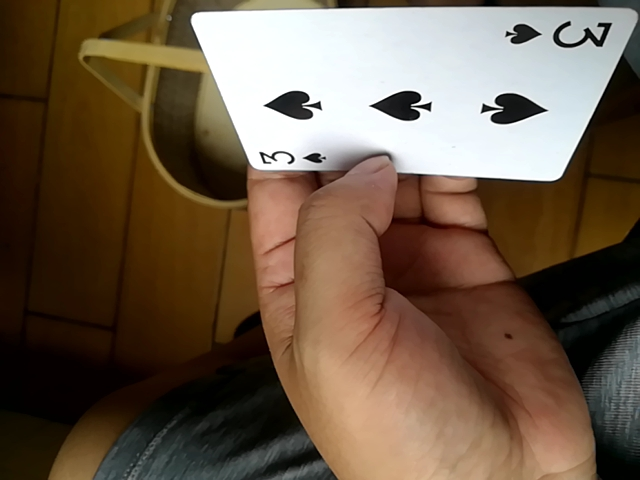ht 3: (182, 8, 640, 182)
